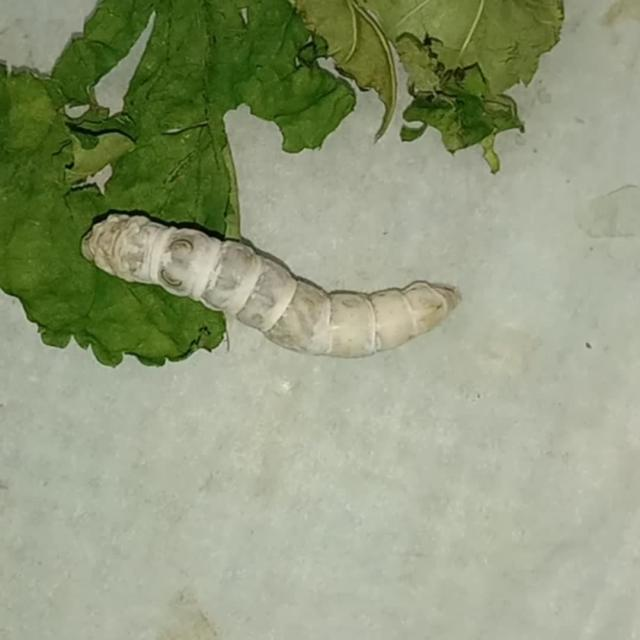Grasserie: (76, 199, 468, 358)
